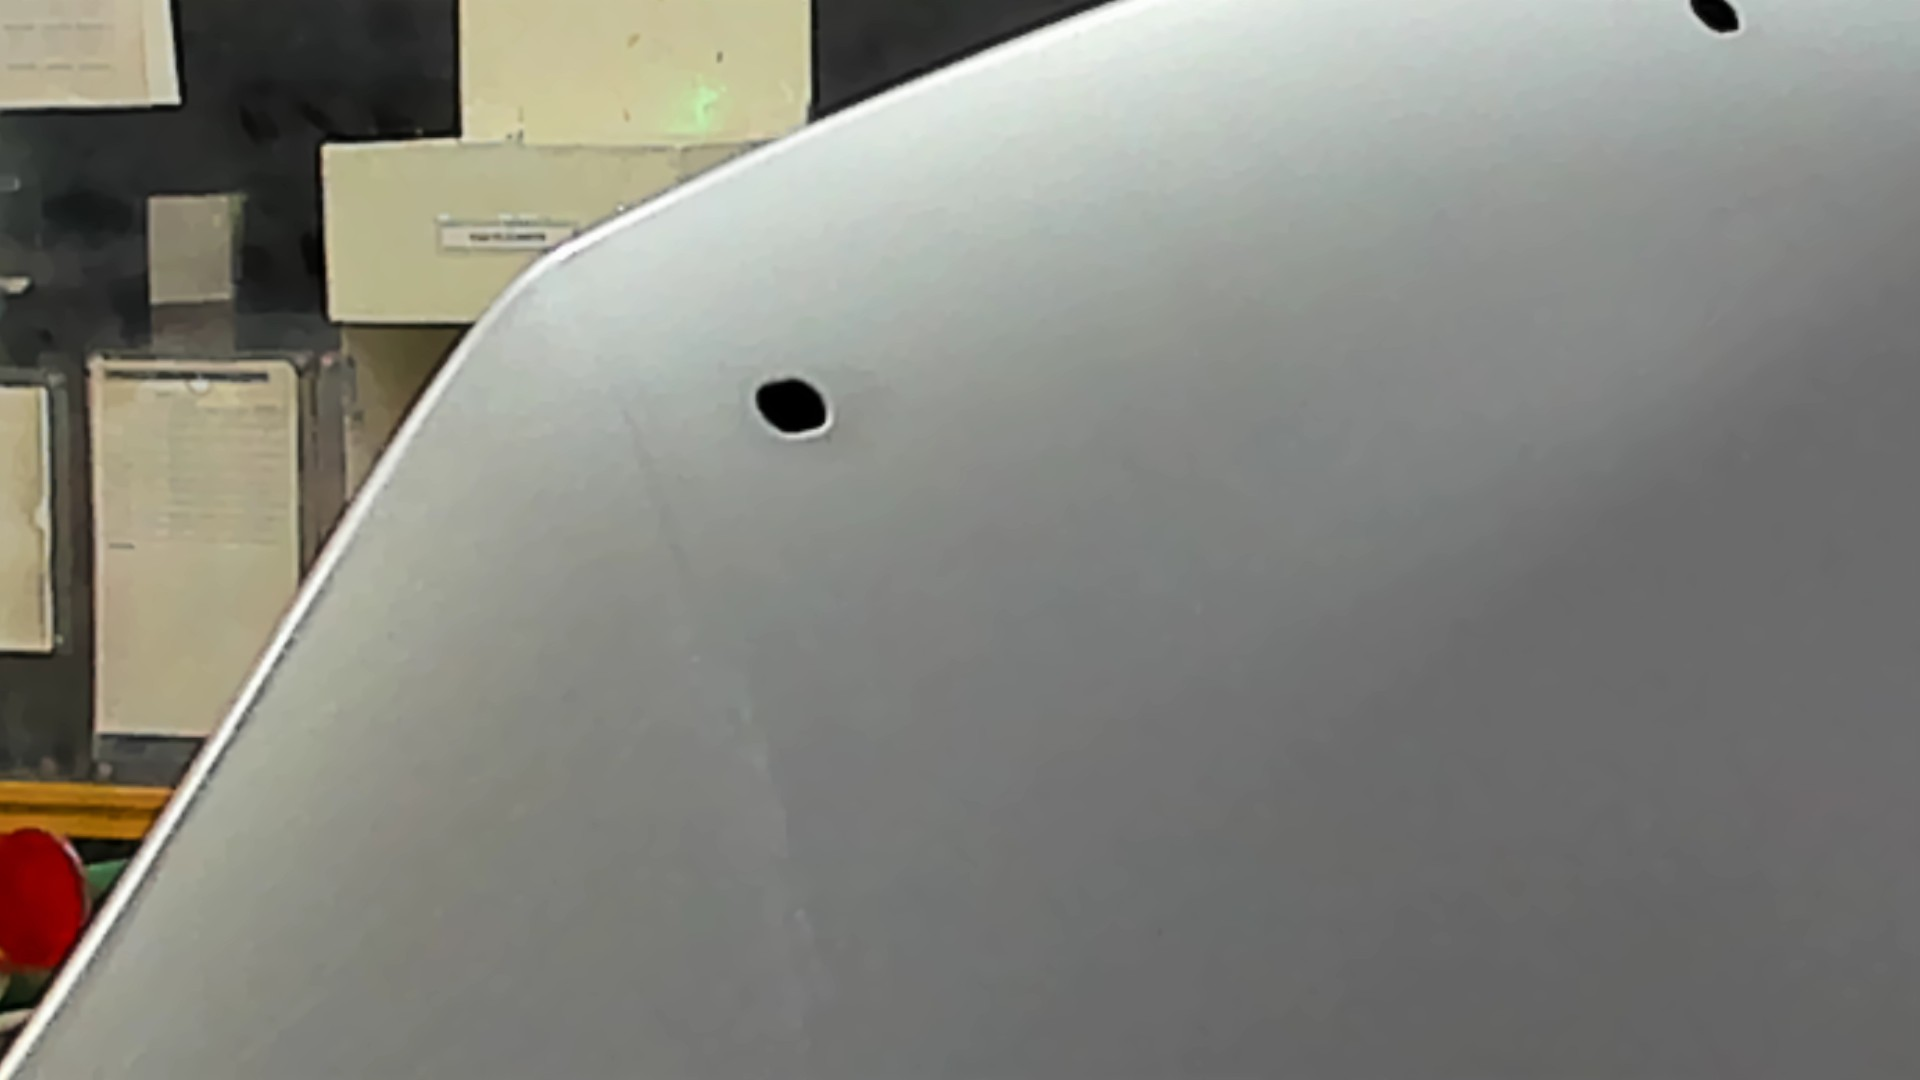chico: (745, 369, 843, 444), (1677, 1, 1760, 46)
